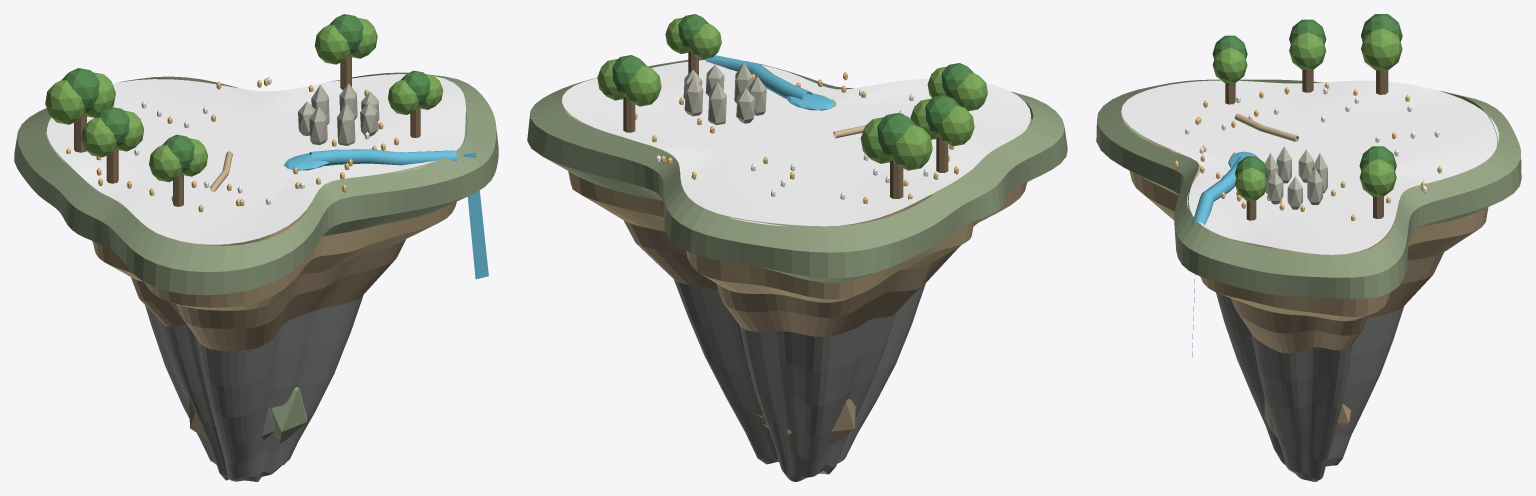
File: FI-001-Cloverlight-Rise.glb
3 views of the same model, side by side, from view 1: azimuth 30°, elevation 25°; view 2: azimuth 150°, elevation 25°; view 3: azimuth 270°, elevation 25° (orthographic). The views are drawn at different scales.
Visible parts, largest first — view 1: FI-001_StratifiedFloatingCliff, FI-001_BuildableTop, MeadowCreek, OrchardTree_00_Canopy_00, WaterfallSheet, FI-001_RootShoulder_04, OrchardTree_03_Canopy_00, OrchardTree_01_Canopy_00, OrchardTree_00_Canopy_01, OrchardTree_02_Canopy_00, OrchardTree_04_Canopy_00, OrchardTree_03_Canopy_01 (+9 smaller); view 2: FI-001_StratifiedFloatingCliff, FI-001_BuildableTop, OrchardTree_00_Canopy_00, MeadowCreek, OrchardTree_03_Canopy_00, OrchardTree_01_Canopy_00, OrchardTree_00_Canopy_01, OrchardTree_02_Canopy_00, OrchardTree_04_Canopy_00, OrchardTree_01_Canopy_01, OrchardTree_03_Canopy_01, OrchardTree_00_Canopy_02 (+7 smaller); view 3: FI-001_StratifiedFloatingCliff, FI-001_BuildableTop, OrchardTree_00_Canopy_02, OrchardTree_03_Canopy_02, OrchardTree_01_Canopy_02, MeadowCreek, OrchardTree_02_Canopy_02, OrchardTree_04_Canopy_02, OrchardTree_00_Canopy_01, OrchardTree_01_Canopy_01, OrchardTree_03_Canopy_01, OldCartTrack (+2 smaller).
Part boxes in pixels (x1=…): FI-001_StratifiedFloatingCliff: x1=14, y1=72, x2=498, y2=481; FI-001_BuildableTop: x1=47, y1=74, x2=465, y2=244; MeadowCreek: x1=309, y1=149, x2=456, y2=166; OrchardTree_00_Canopy_00: x1=45, y1=80, x2=85, y2=124; WaterfallSheet: x1=463, y1=152, x2=488, y2=279; FI-001_RootShoulder_04: x1=271, y1=387, x2=306, y2=442; OrchardTree_03_Canopy_00: x1=314, y1=24, x2=351, y2=64; OrchardTree_01_Canopy_00: x1=81, y1=117, x2=117, y2=157; OrchardTree_00_Canopy_01: x1=62, y1=68, x2=99, y2=112; OrchardTree_02_Canopy_00: x1=149, y1=144, x2=183, y2=181; OrchardTree_04_Canopy_00: x1=388, y1=80, x2=419, y2=114; OrchardTree_03_Canopy_01: x1=329, y1=14, x2=363, y2=53; FI-001_StratifiedFloatingCliff: x1=527, y1=58, x2=1067, y2=481; FI-001_BuildableTop: x1=562, y1=60, x2=1031, y2=226; OrchardTree_00_Canopy_00: x1=891, y1=125, x2=932, y2=170; MeadowCreek: x1=706, y1=55, x2=812, y2=99; OrchardTree_03_Canopy_00: x1=624, y1=65, x2=661, y2=106; OrchardTree_01_Canopy_00: x1=937, y1=105, x2=974, y2=146; OrchardTree_00_Canopy_01: x1=877, y1=113, x2=915, y2=157; OrchardTree_02_Canopy_00: x1=953, y1=73, x2=987, y2=111; OrchardTree_04_Canopy_00: x1=689, y1=23, x2=721, y2=59; OrchardTree_01_Canopy_01: x1=925, y1=95, x2=959, y2=134; OrchardTree_03_Canopy_01: x1=612, y1=55, x2=646, y2=94; OrchardTree_00_Canopy_02: x1=860, y1=117, x2=891, y2=163; FI-001_StratifiedFloatingCliff: x1=1096, y1=79, x2=1521, y2=481; FI-001_BuildableTop: x1=1121, y1=80, x2=1498, y2=254; OrchardTree_00_Canopy_02: x1=1361, y1=28, x2=1402, y2=70; OrchardTree_03_Canopy_02: x1=1359, y1=159, x2=1396, y2=196; OrchardTree_01_Canopy_02: x1=1289, y1=32, x2=1326, y2=69; MeadowCreek: x1=1191, y1=156, x2=1245, y2=225; OrchardTree_02_Canopy_02: x1=1212, y1=48, x2=1247, y2=82; OrchardTree_04_Canopy_02: x1=1235, y1=167, x2=1267, y2=200; OrchardTree_00_Canopy_01: x1=1361, y1=14, x2=1402, y2=41; OrchardTree_01_Canopy_01: x1=1289, y1=19, x2=1326, y2=44; OrchardTree_03_Canopy_01: x1=1359, y1=146, x2=1396, y2=170; OldCartTrack: x1=1234, y1=113, x2=1298, y2=141.
Size of the model in its own units: 13.33 by 12.25 by 12.06.
